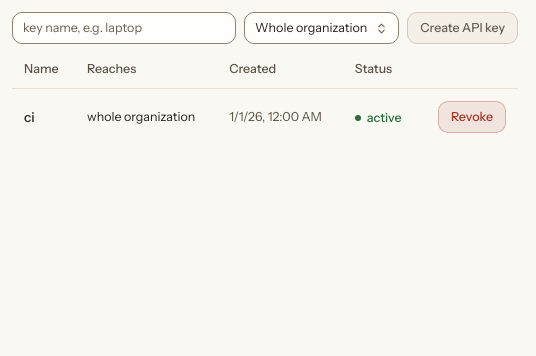
Test: creating an API key › binds a key to one project when asked
Click the button named "Key reach": (322, 28) [244,12,399,44]
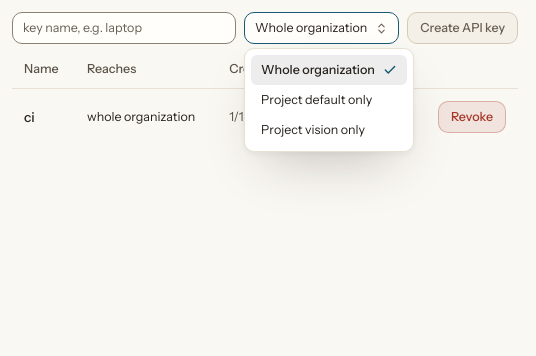
Click the option "Project vision only": (313, 130) [261,122,365,137]
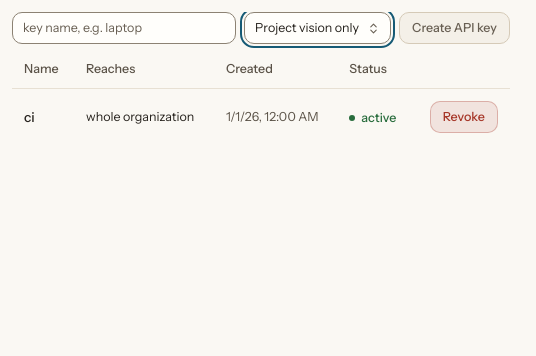
In the field labelled "key name": (124, 28) [12,12,236,44], type "vision-bot"
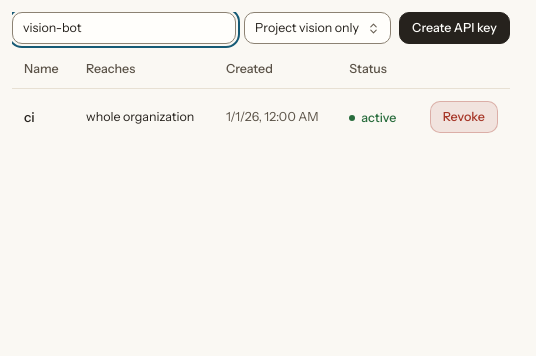
Click the button "Create API key": (454, 28) [399,12,510,44]
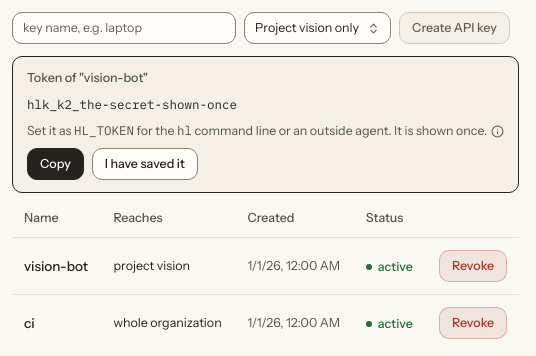
Now the text "project vision" is shown, box [101,238,236,294]
